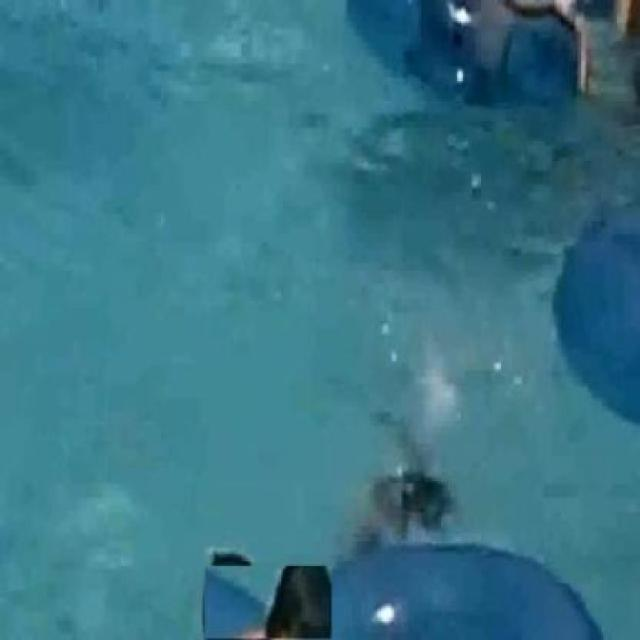drowning: (324, 384, 488, 539)
